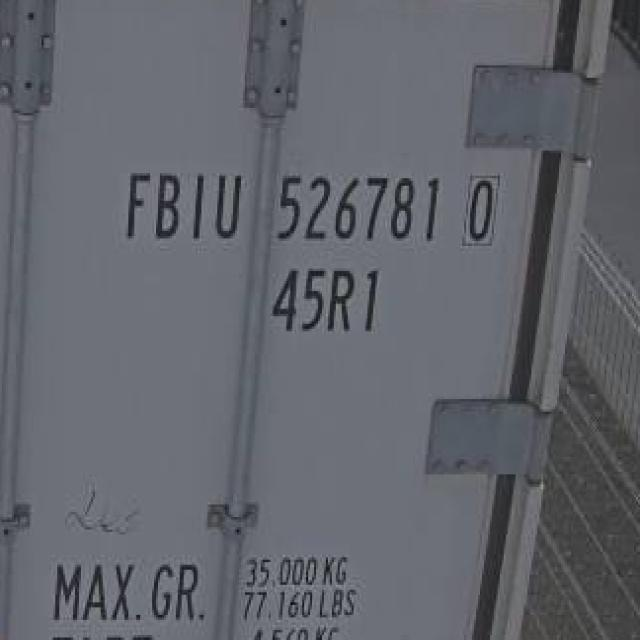dv: (456, 170, 506, 250)
owner: (114, 158, 248, 250)
serial: (267, 156, 445, 254)
size: (262, 258, 391, 337)
